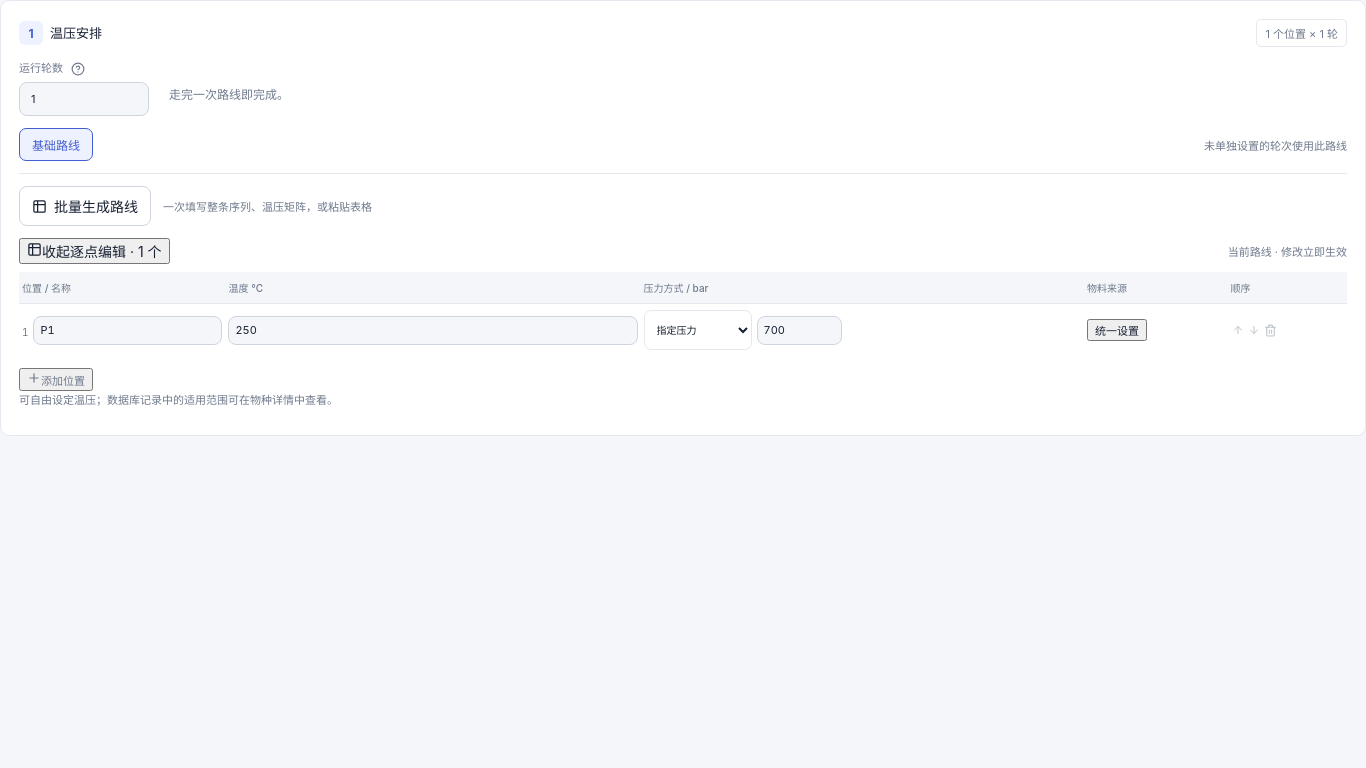
Test: keeps staged numerical edits when a legacy path editor changes language
Click the button "批量生成路线" at (85, 206), box [19, 186, 151, 226]
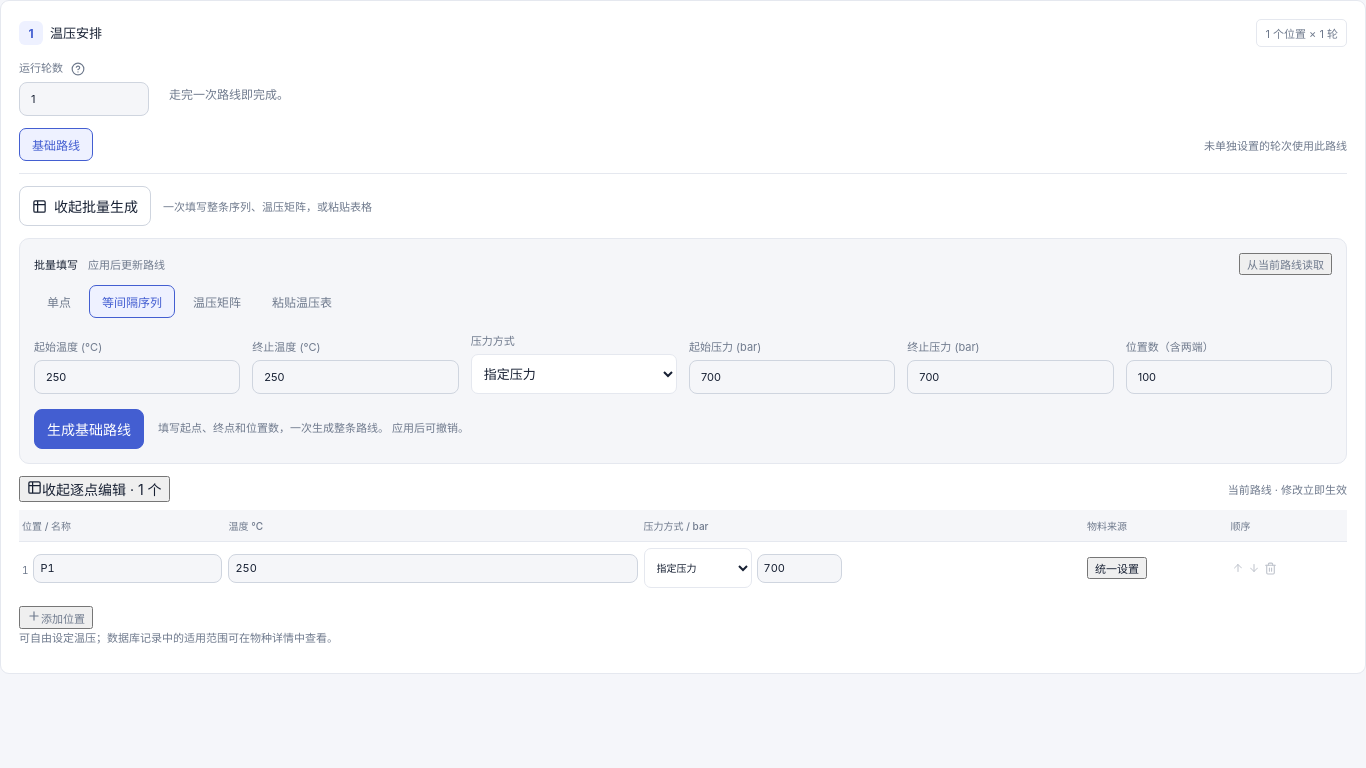
Replace the text in the number field labelled "起始温度 (°C)" with "123" at (137, 377), box [34, 360, 240, 394]
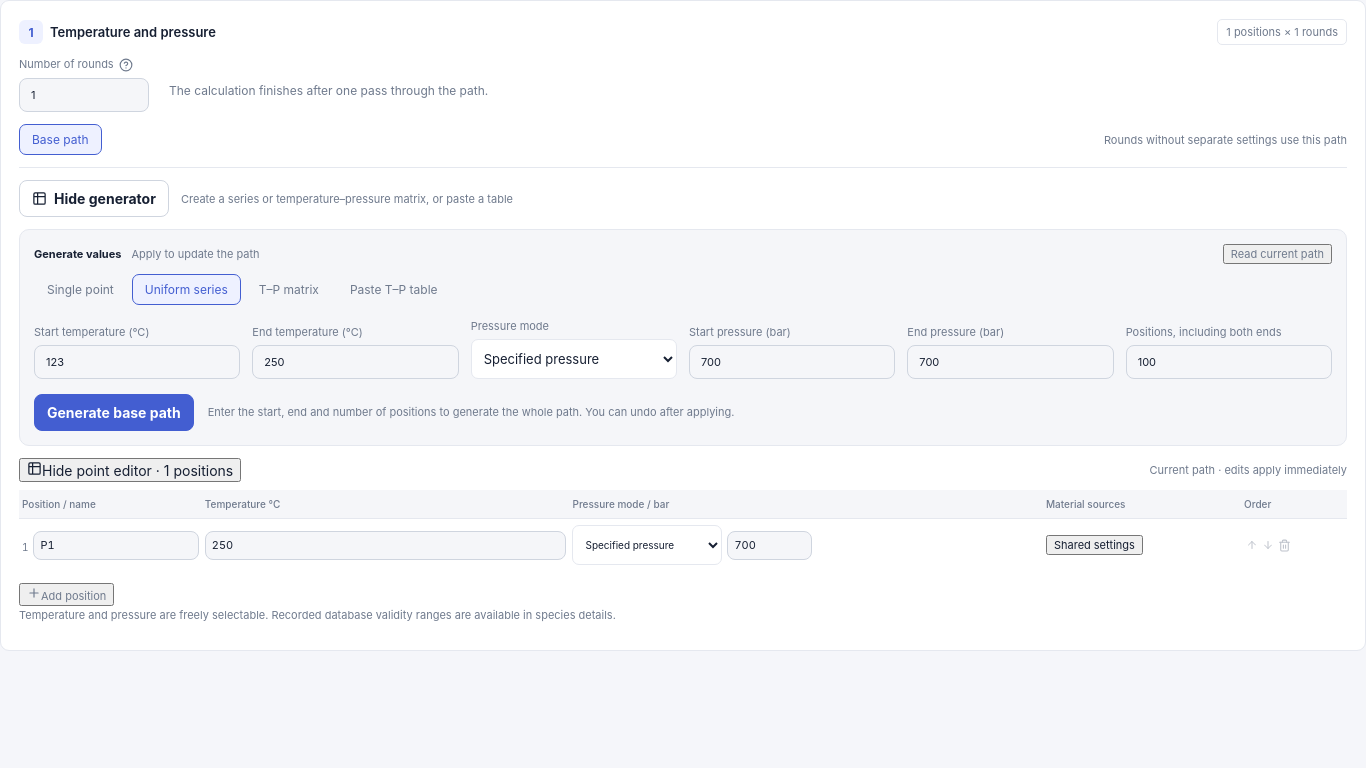
Result: the button "Generate base path" is shown at [34, 394, 194, 431]
